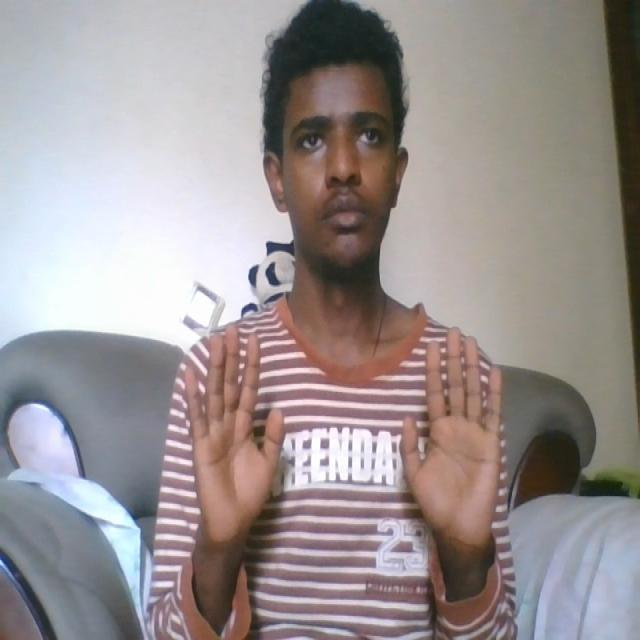megerem: (179, 328, 504, 542)
